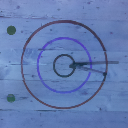Axe Tip: (74, 64, 86, 66)
